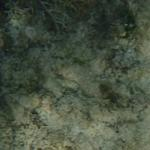dead: (10, 35, 145, 148)
